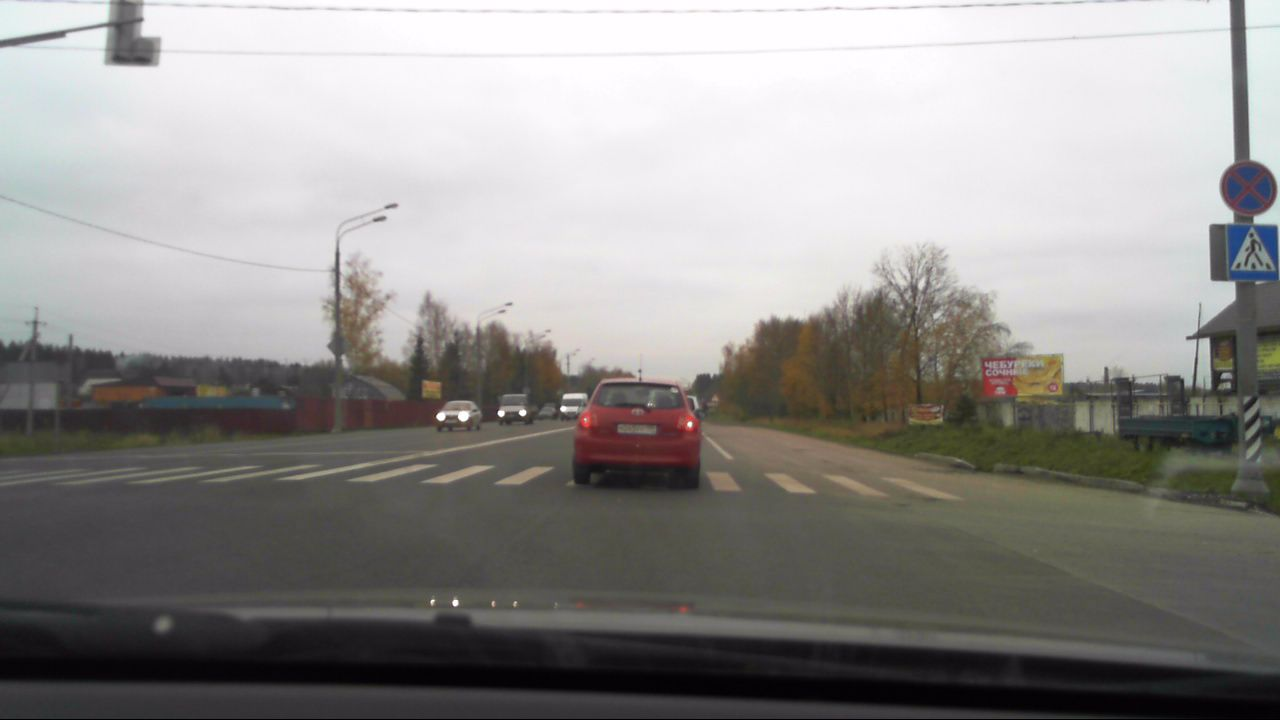No Parking: (1216, 161, 1279, 218)
